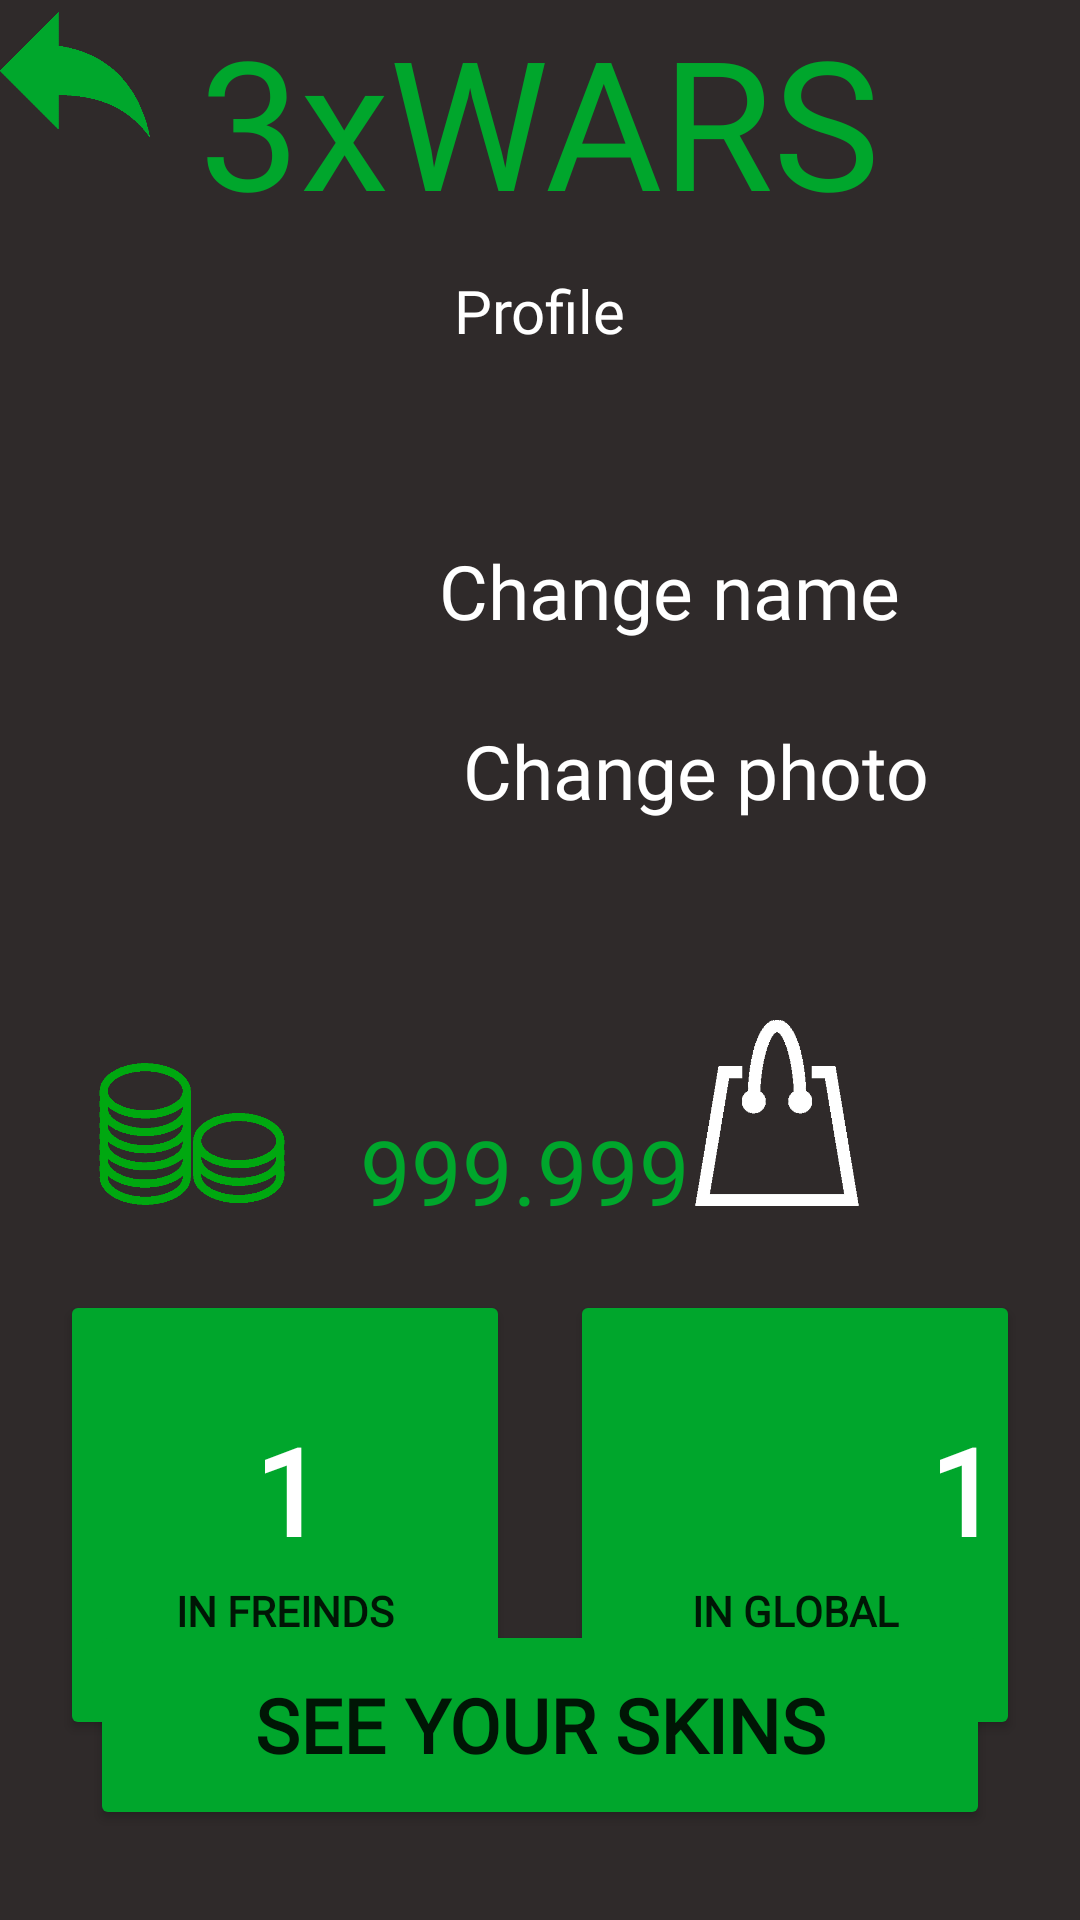

Screen size 1080*1920. Icon name, then its center in pixels as point (x, y):
bolsaw: point (777, 1113)
dinerosv: point (192, 1134)
flecha: point (75, 74)
